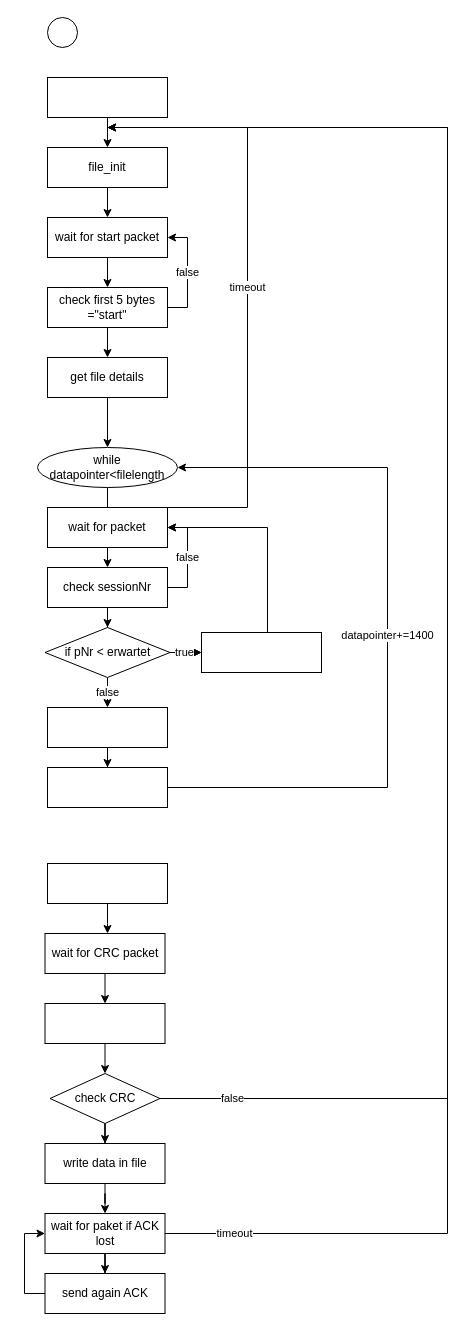
Some shapes in this 473 by 1331 pixel diagram are drawn without their labels. The shapes that lost their labels are listed below. From the top down, each one's centre as x and y in pixels, then its label:
the point at 107,97: AW
the point at 261,652: send ACK erwartet-1
the point at 107,727: send ACK
the point at 107,787: write data in buffer
the point at 107,883: calc CRC
the point at 104,1023: send ACK + CRC
